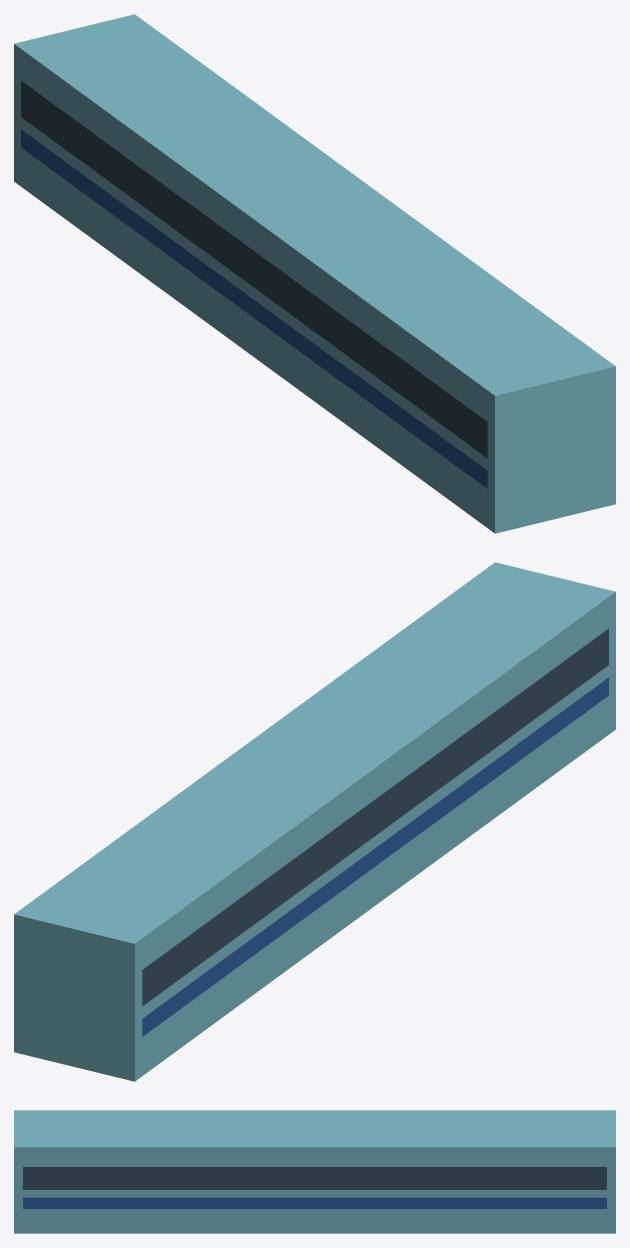
File: middle_3_far.fbx
The picture shows the model from 3 angles, top to bottom: view 1: azimuth 30°, elevation 25°; view 2: azimuth 150°, elevation 25°; view 3: azimuth 270°, elevation 25°; orthographic projection. The views are drawn at different scales.
Visible parts, largest first — view 1: 20_middle_3_far; view 2: 20_middle_3_far; view 3: 20_middle_3_far.
Boxes of the visible parts, x1,y1,x2,y2 form: 20_middle_3_far: [14, 14, 615, 533]; 20_middle_3_far: [14, 562, 615, 1081]; 20_middle_3_far: [14, 1110, 615, 1233].
Bounding box in the file's own units: 2.91 × 3.16 × 20.
